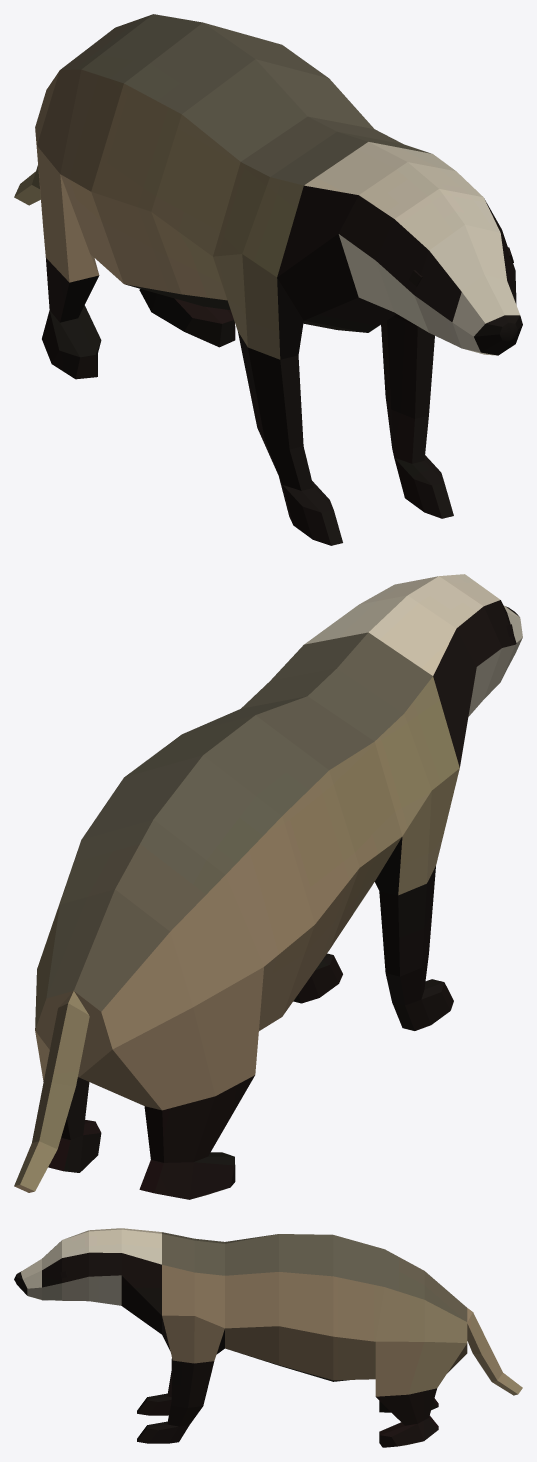
File: fXBbhQr-T80.glb
3 views of the same model, one above another, from view 1: azimuth 30°, elevation 25°; view 2: azimuth 150°, elevation 25°; view 3: azimuth 270°, elevation 25° (orthographic). The views are drawn at different scales.
Parts seen in each view (by area): view 1: Geo_Badger; view 2: Geo_Badger; view 3: Geo_Badger.
Boxes of the visible parts, <box> form: Geo_Badger: <box>14,14,522,545</box>; Geo_Badger: <box>14,574,522,1199</box>; Geo_Badger: <box>14,1228,522,1447</box>.
Bounding box in the file's own units: 0.6128 × 1 × 2.33.
1 material, 1 textured.
